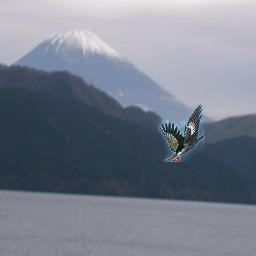Woodpecker: (159, 104, 206, 162)
